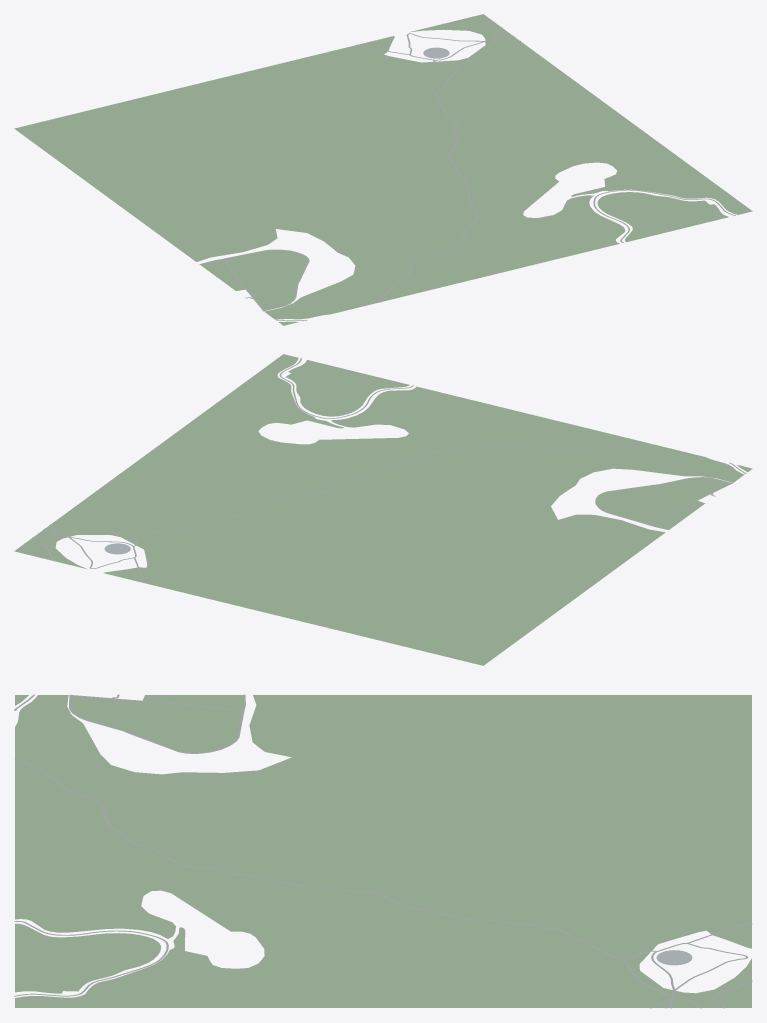
File: 16_3-known-coarse.glb
3 views of the same model, one above another, from view 1: azimuth 30°, elevation 25°; view 2: azimuth 150°, elevation 25°; view 3: azimuth 270°, elevation 25° (orthographic). The views are drawn at different scales.
Size of the model in its own units: 1003 by 0.15 by 998.
